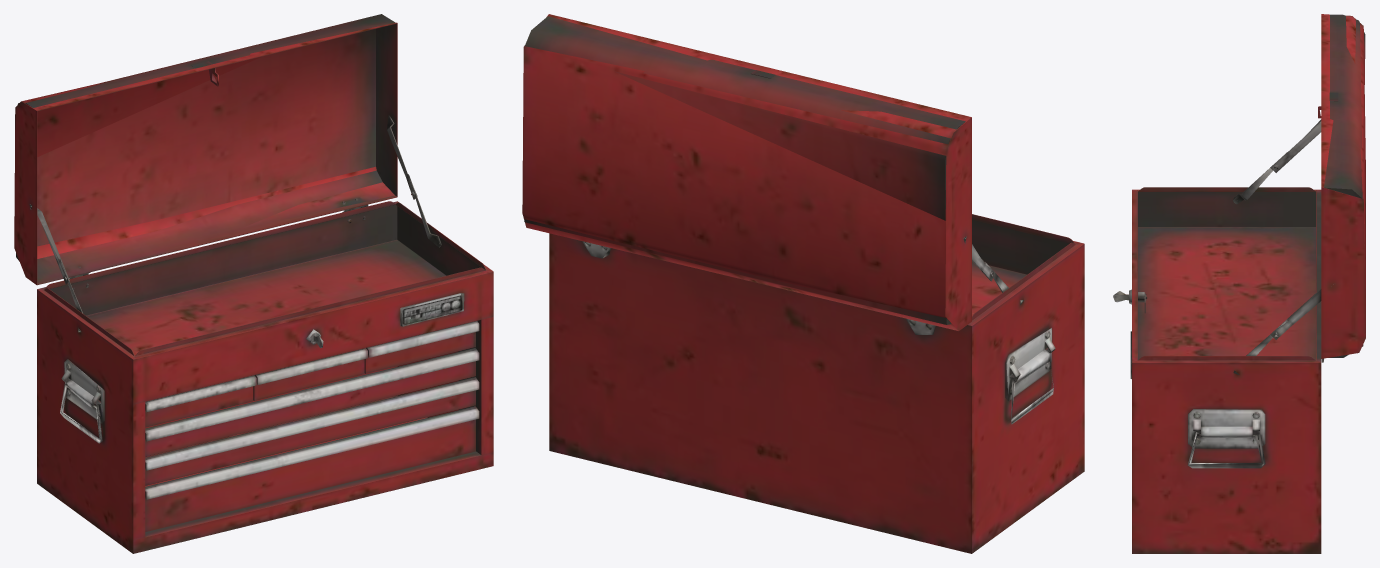
File: toolchest.glb
3 renders of one model, left to right at view 1: azimuth 30°, elevation 25°; view 2: azimuth 150°, elevation 25°; view 3: azimuth 270°, elevation 25°, orthographic. The views are drawn at different scales.
Parts seen in each view (by area): view 1: metal_tool_chest_chest; view 2: metal_tool_chest_chest; view 3: metal_tool_chest_chest.
Boxes of the visible parts, <box> form: metal_tool_chest_chest: <box>14,14,493,553</box>; metal_tool_chest_chest: <box>522,14,1084,553</box>; metal_tool_chest_chest: <box>1113,14,1365,553</box>.
Bounding box in the file's own units: 0.6847 × 0.6518 × 0.4071.
1 material, 1 textured.
